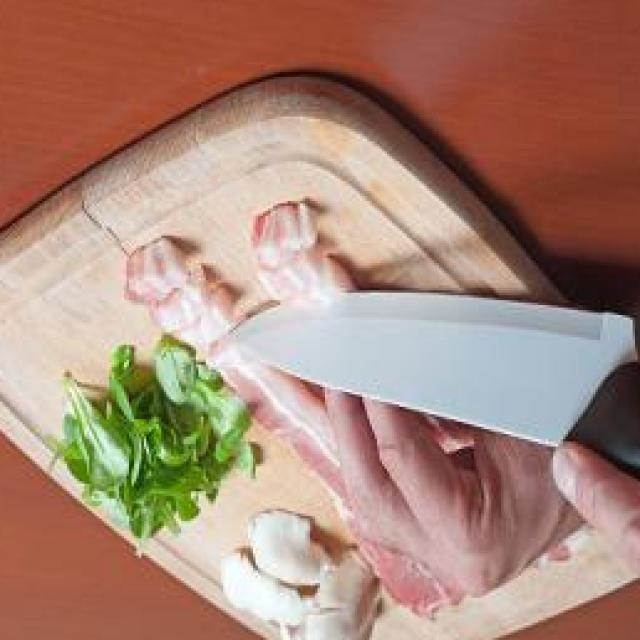knife: (226, 268, 640, 534)
